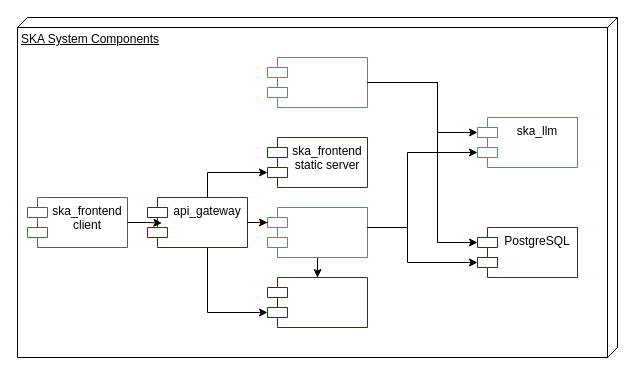
This 635x375 diagram has some shape labels left out. The centre of each missing label's shape, as x and y in pixels:
"Keycloak" belongs at point 317,302.
"ska_cli" belongs at point 317,82.
"ska_server" belongs at point 317,232.
